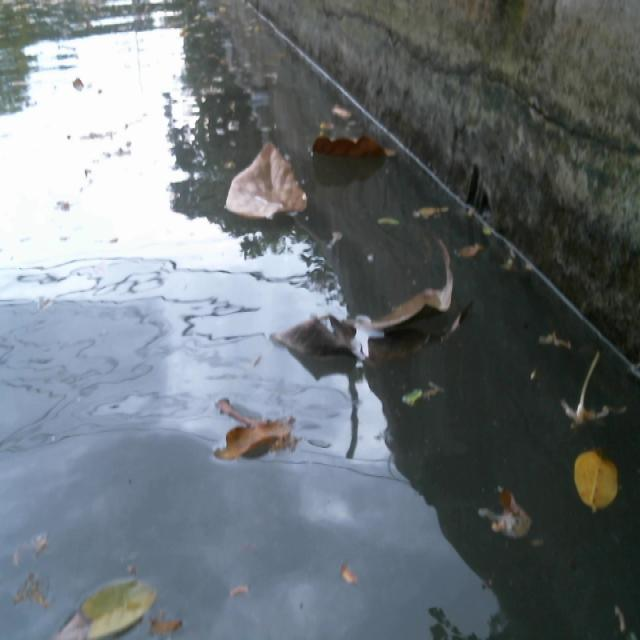Big-leaf: (268, 243, 458, 387), (208, 391, 313, 485), (219, 133, 311, 226), (310, 130, 406, 164)
Small-leaf: (45, 559, 171, 640), (571, 444, 626, 518), (472, 493, 547, 536), (535, 322, 574, 359), (455, 227, 488, 268), (402, 384, 441, 417), (133, 618, 191, 640), (235, 569, 262, 616), (335, 88, 361, 125), (416, 197, 448, 225), (338, 561, 364, 583), (372, 215, 397, 231)
